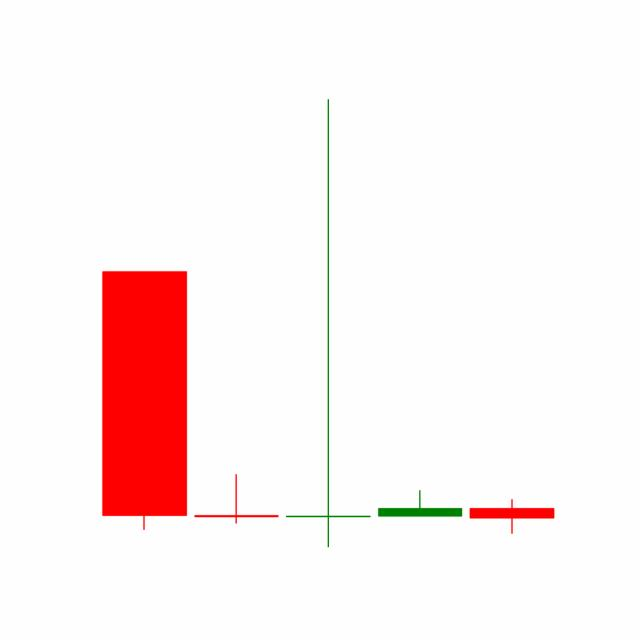Hammer: (464, 497, 558, 534)
